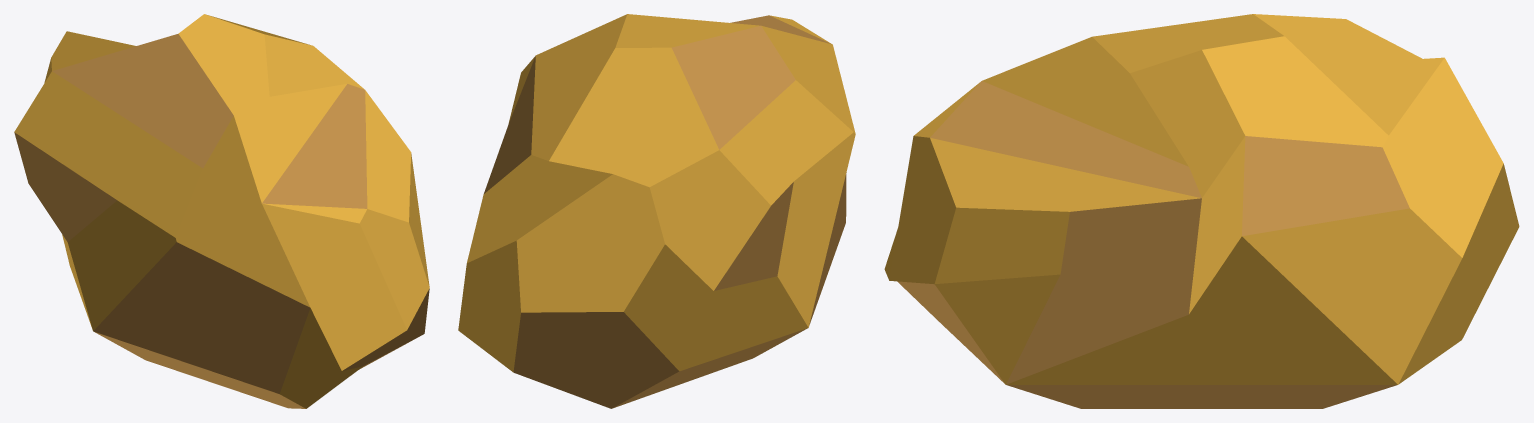
File: Long boulder - sand w shade.fbx
3 views of the same model, side by side, from view 1: azimuth 30°, elevation 25°; view 2: azimuth 150°, elevation 25°; view 3: azimuth 270°, elevation 25° (orthographic). The views are drawn at different scales.
Visible parts, largest first — view 1: Icosphere; view 2: Icosphere; view 3: Icosphere.
Part boxes in pixels (bbox=[...]): Icosphere: bbox=[14, 14, 429, 408]; Icosphere: bbox=[458, 14, 855, 408]; Icosphere: bbox=[884, 14, 1519, 408].
Size of the model in its own units: 205 by 193 by 315.
